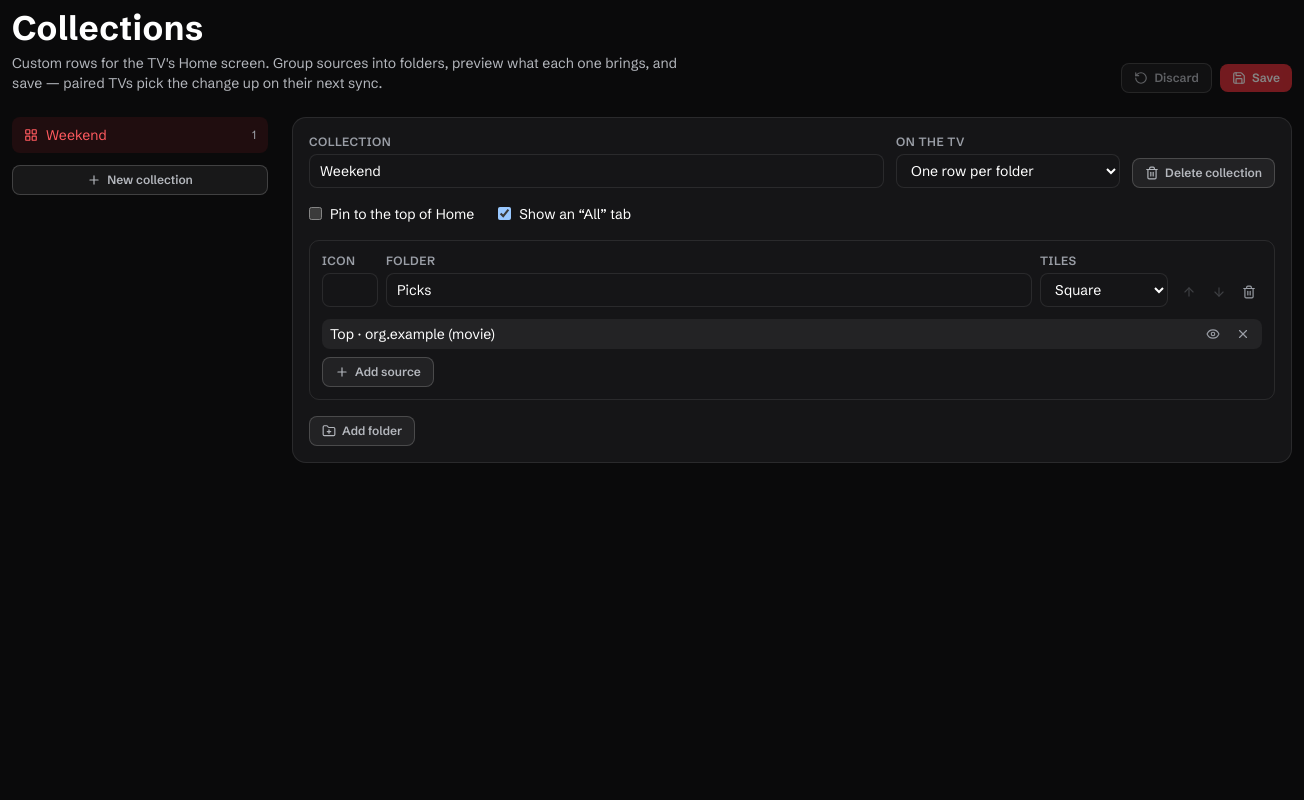
Test: CollectionsPage › previews an addon source straight from the address it carries
Expected: the navigation bar named "Collections" is shown, [12, 117, 268, 195]
Click the button named "Preview Top" at coordinates (1213, 334), box [1202, 323, 1224, 345]
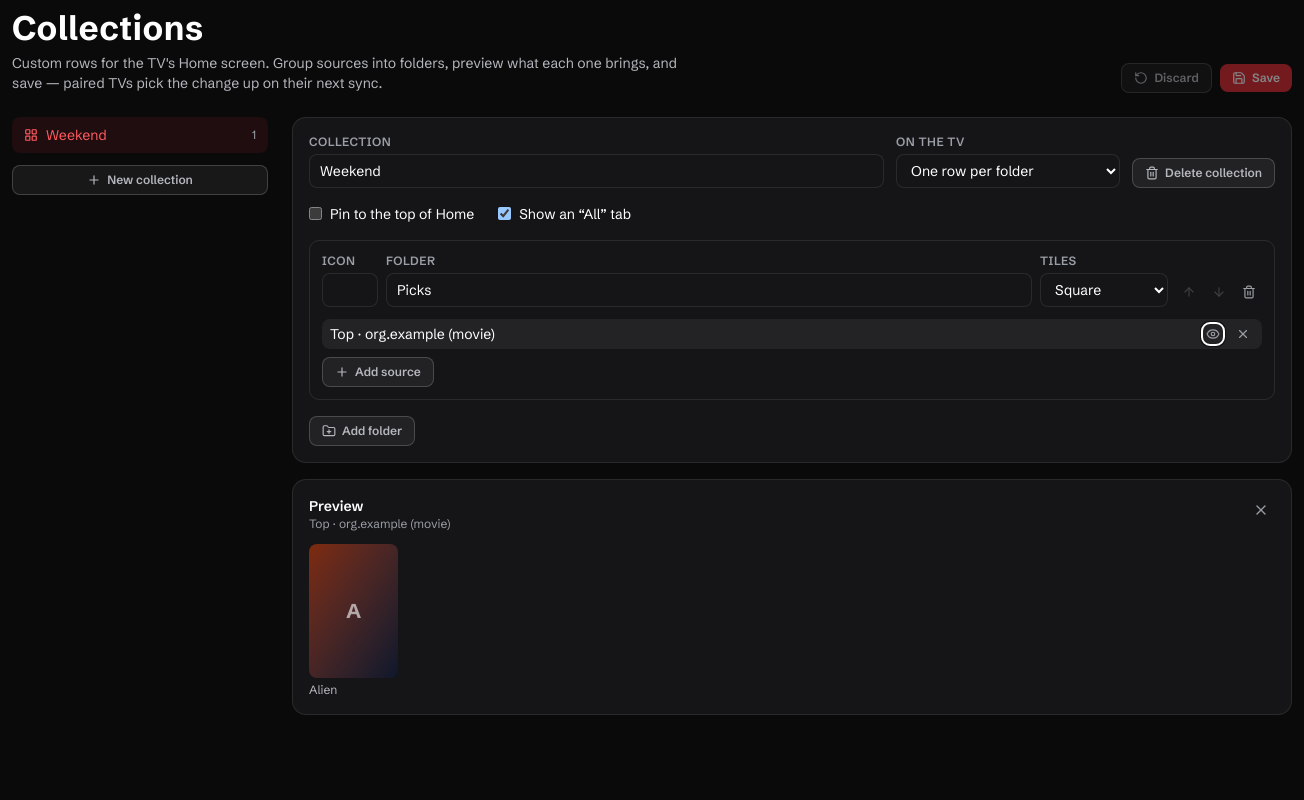
Now the text "Alien" is shown, box [309, 682, 337, 697]
